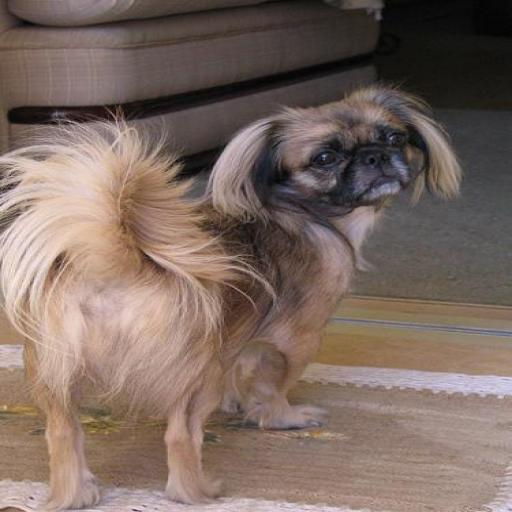dog_face: (210, 88, 477, 228)
